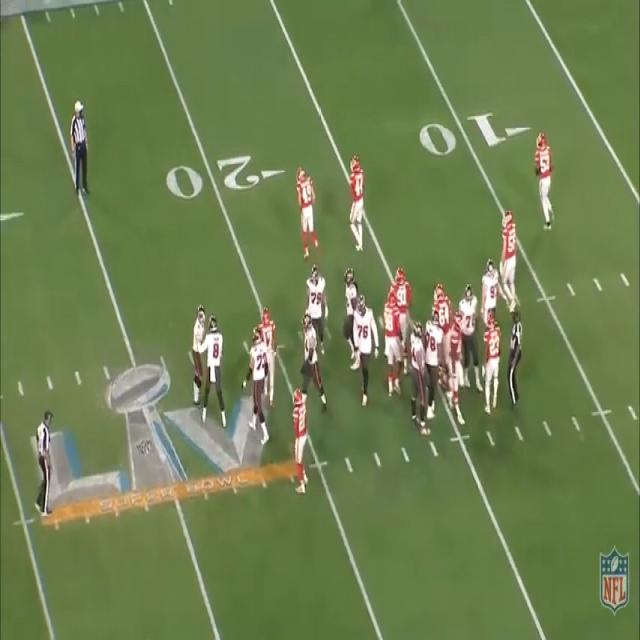players: (525, 127, 562, 228), (199, 318, 231, 434), (296, 316, 331, 418), (294, 160, 326, 266), (343, 150, 372, 266), (245, 332, 273, 448), (444, 314, 471, 424), (459, 284, 486, 393), (382, 286, 406, 398), (350, 299, 375, 405), (300, 267, 328, 356), (499, 212, 521, 314), (292, 388, 312, 499), (429, 280, 454, 366), (338, 266, 360, 360), (389, 267, 411, 360), (256, 306, 278, 398), (423, 313, 441, 420), (194, 302, 211, 412), (410, 321, 426, 428), (483, 313, 499, 414), (482, 261, 499, 335)
